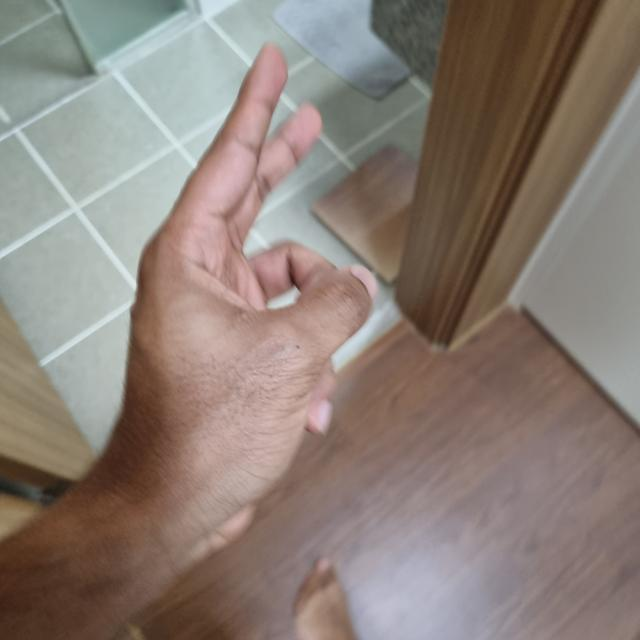Scissors: (105, 48, 419, 541)
